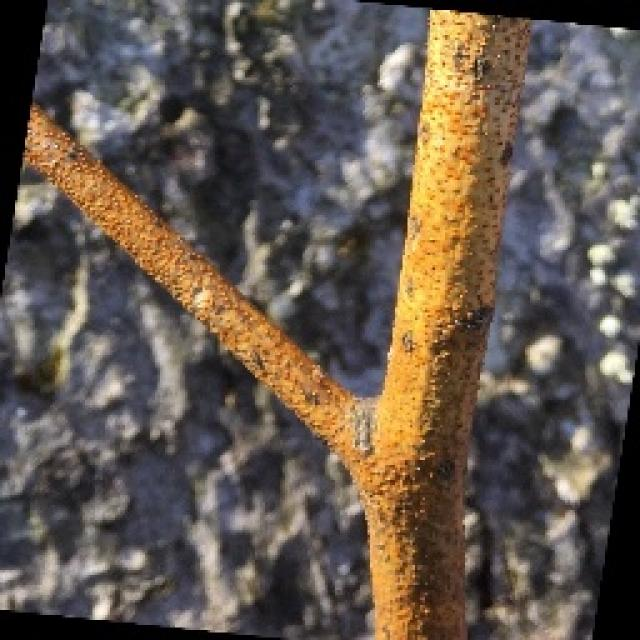Golden_canker: (18, 2, 538, 638)
